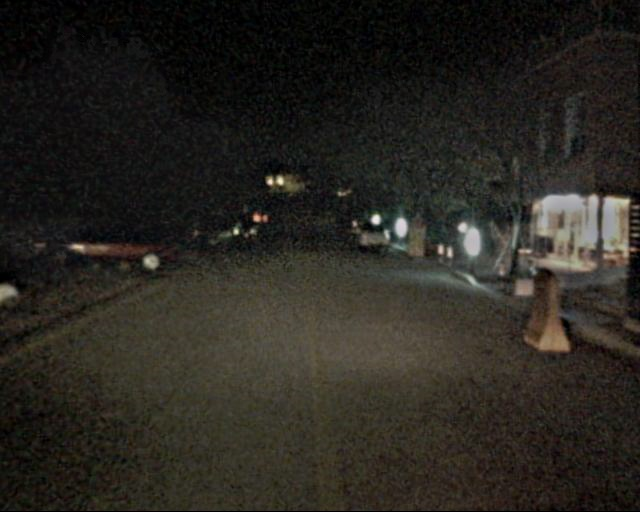person: (483, 218, 503, 267)
